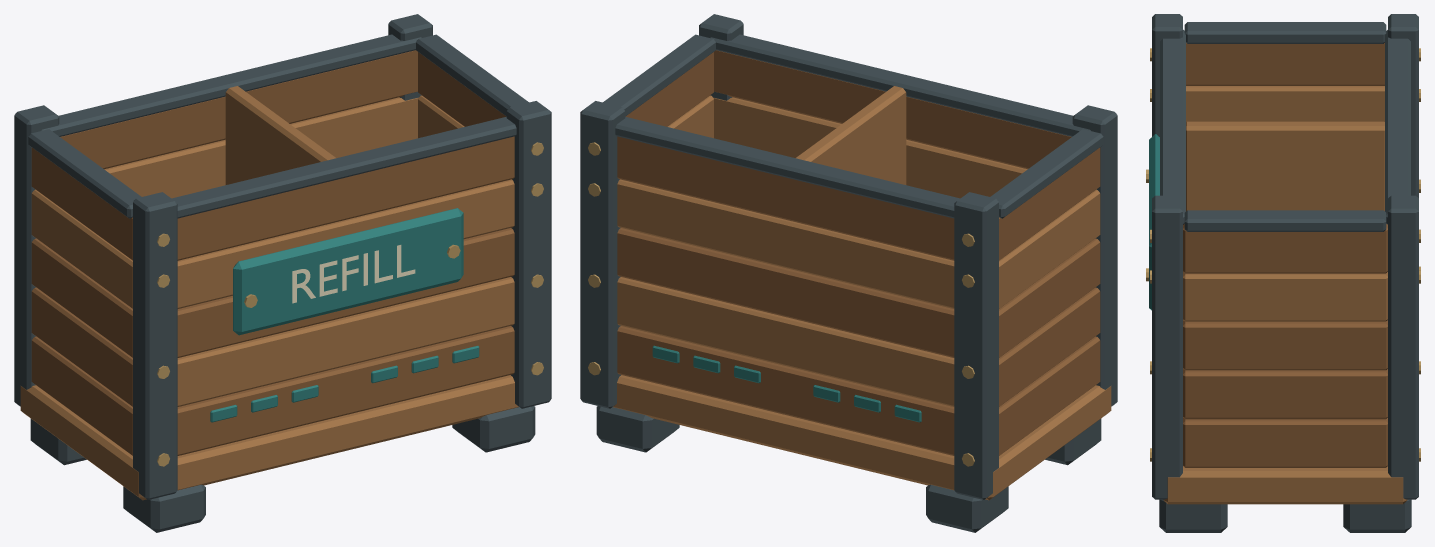
File: w3b-range-refill-crate.glb
3 views of the same model, side by side, from view 1: azimuth 30°, elevation 25°; view 2: azimuth 150°, elevation 25°; view 3: azimuth 270°, elevation 25° (orthographic).
Parts seen in each view (by area): view 1: w3b-range-refill-crate; view 2: w3b-range-refill-crate; view 3: w3b-range-refill-crate.
Part boxes in pixels (x1,y1,x2,y2): w3b-range-refill-crate: (14, 14, 551, 532); w3b-range-refill-crate: (580, 14, 1117, 532); w3b-range-refill-crate: (1146, 14, 1420, 532).
Size of the model in its own units: 1.27 by 0.985 by 0.741.
